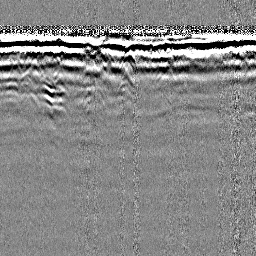cavity: (118, 48, 138, 71)
